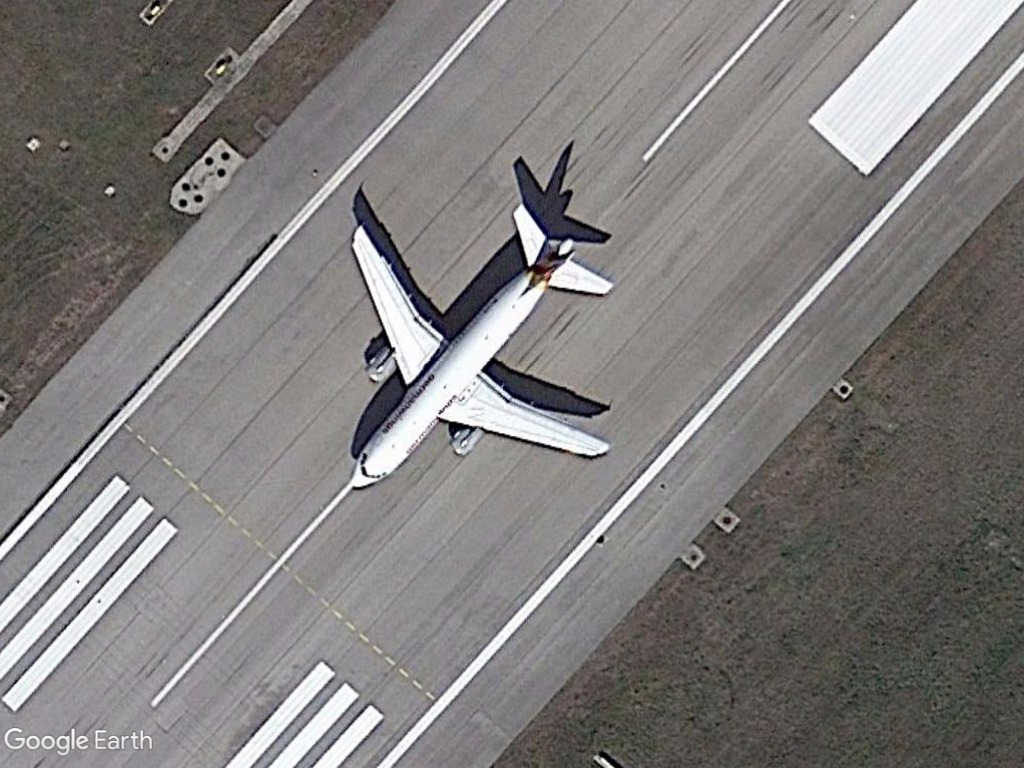airliner: (328, 197, 627, 504)
